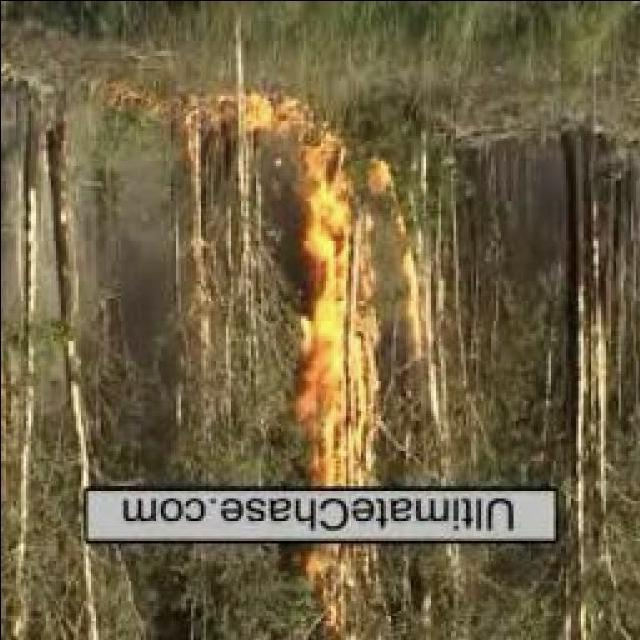Fire: (290, 212, 376, 484), (212, 86, 361, 192), (388, 230, 444, 388), (298, 540, 364, 627)
